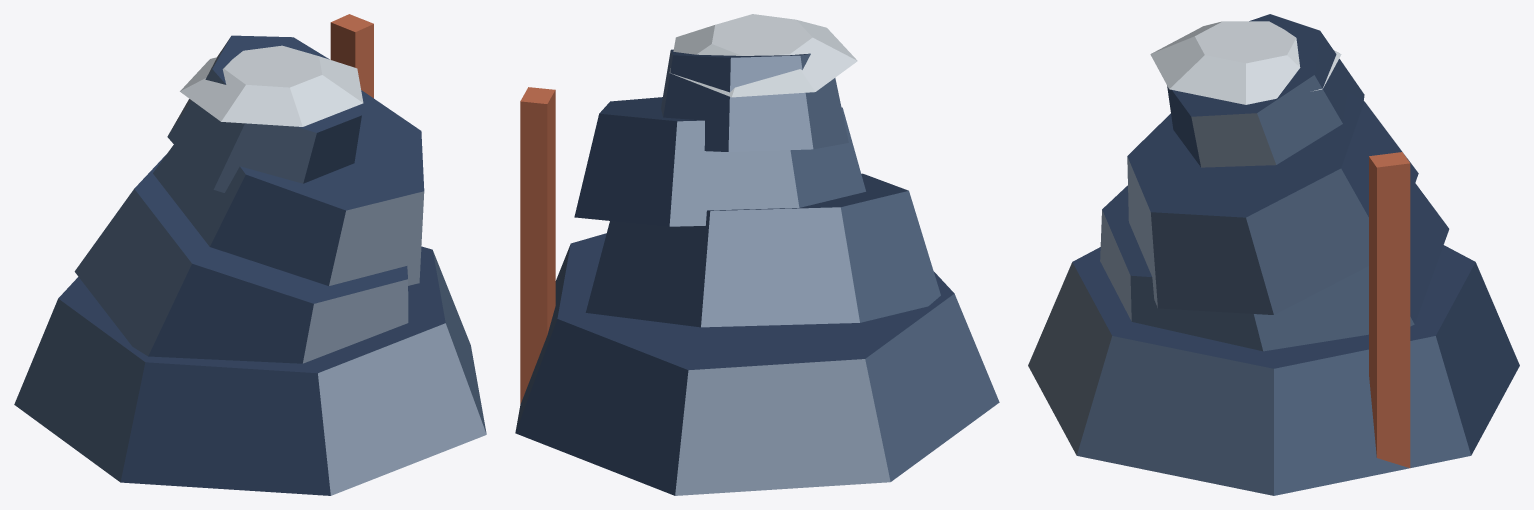
Rendered from summit-cairn.glb.
The picture shows the model from 3 angles, left to right: view 1: azimuth 30°, elevation 25°; view 2: azimuth 150°, elevation 25°; view 3: azimuth 270°, elevation 25°; orthographic projection. The views are drawn at different scales.
Visible parts, largest first — view 1: summit-cairn; view 2: summit-cairn; view 3: summit-cairn.
Part boxes in pixels (bbox=[...]): summit-cairn: bbox=[14, 14, 486, 495]; summit-cairn: bbox=[515, 14, 999, 495]; summit-cairn: bbox=[1028, 14, 1519, 495].
Size of the model in its own units: 1.37 by 1.12 by 1.4.
